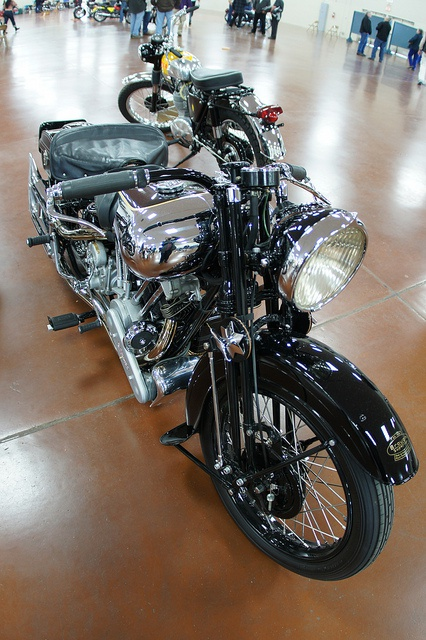non-vehicle: (41, 126, 403, 571), (109, 11, 285, 162), (234, 10, 271, 29), (90, 5, 123, 21), (42, 0, 66, 12), (73, 3, 92, 18), (224, 10, 237, 26)
